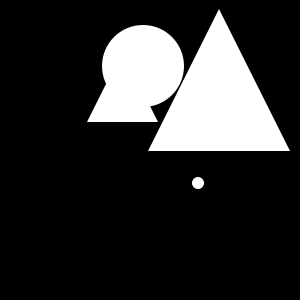circle: (161, 131, 175, 145)
rectangle: (102, 25, 184, 107), (192, 177, 204, 189)
triangle: (148, 9, 290, 151), (87, 51, 158, 122)
